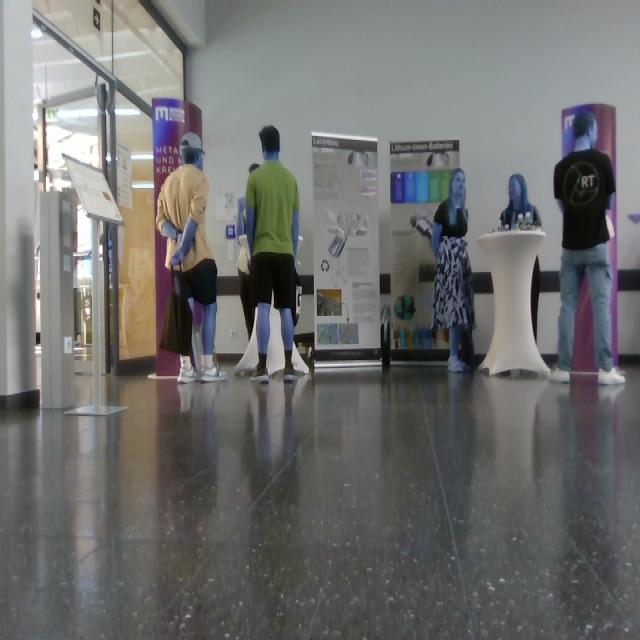banner: (314, 133, 380, 372), (390, 141, 459, 365), (153, 98, 202, 214), (563, 105, 616, 176), (157, 229, 178, 374), (575, 280, 596, 372), (608, 197, 618, 365)
light bulb: (427, 152, 451, 168), (348, 150, 370, 166)
person: (553, 112, 625, 385), (157, 133, 226, 382), (247, 126, 308, 381), (432, 170, 474, 373), (501, 174, 541, 229), (531, 260, 541, 341)
pillar: (1, 1, 37, 404)
table: (479, 230, 549, 376)
tiled floor: (1, 369, 640, 640)
